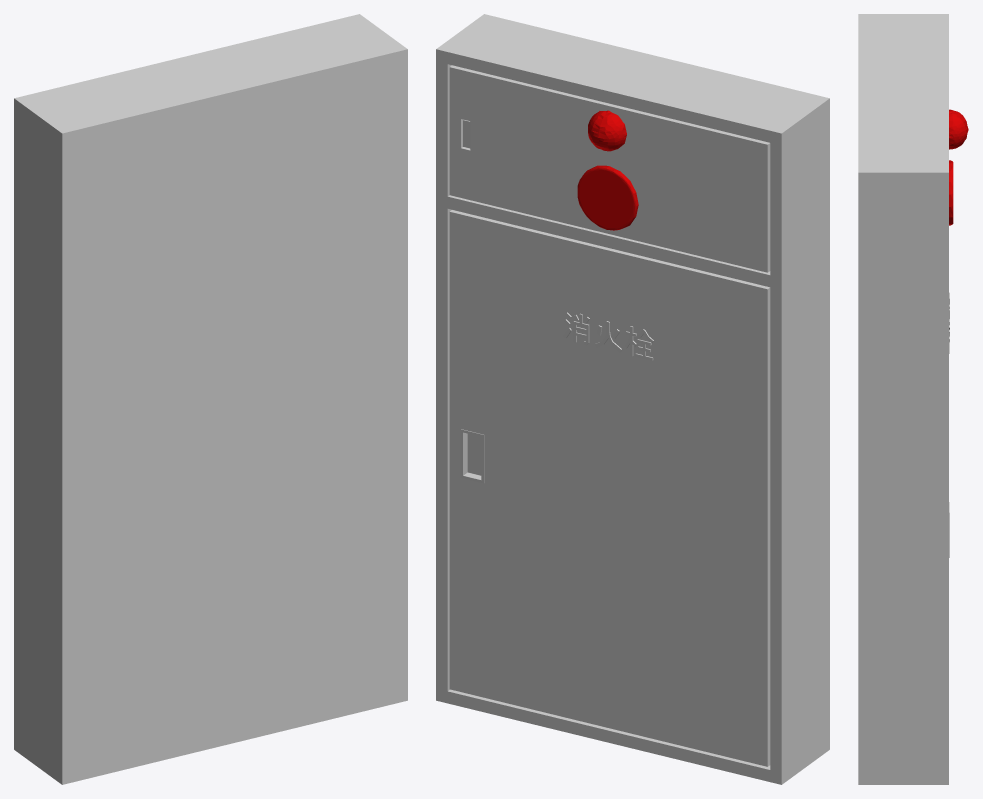
3 renders of one model, left to right at view 1: azimuth 30°, elevation 25°; view 2: azimuth 150°, elevation 25°; view 3: azimuth 270°, elevation 25°, orthographic. The views are drawn at different scales.
Bounding box in the file's own units: 0.7496 × 1.35 × 0.2204.
